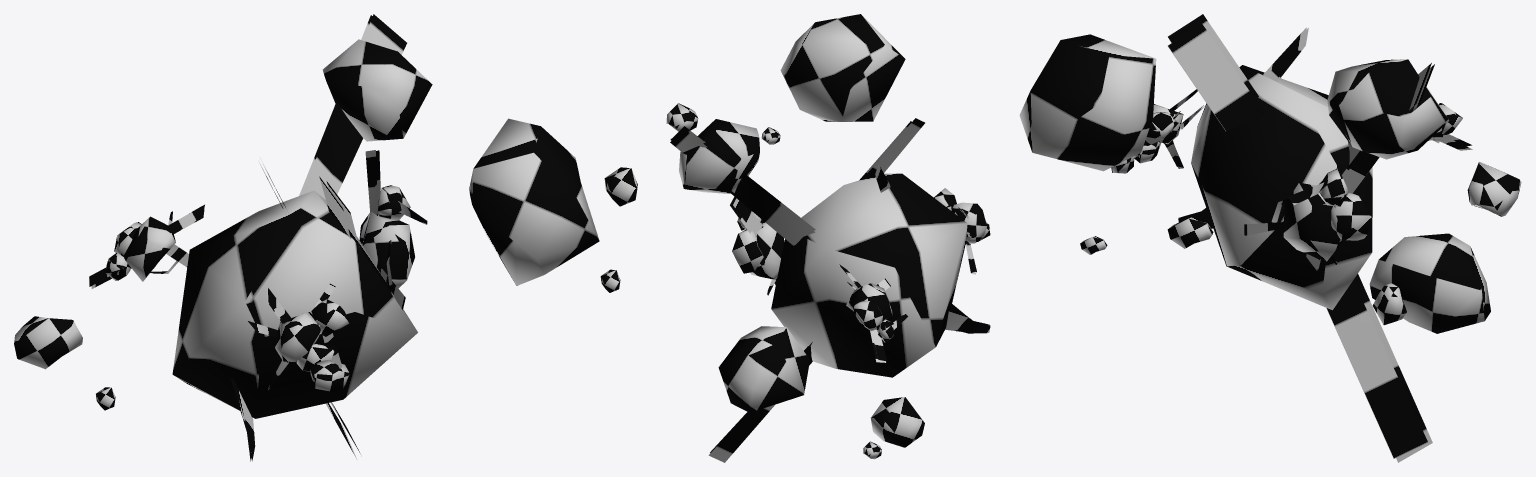
Rendered from zone_asteroid_pirates2.obj.
3 renders of one model, left to right at view 1: azimuth 30°, elevation 25°; view 2: azimuth 150°, elevation 25°; view 3: azimuth 270°, elevation 25°, orthographic. The views are drawn at different scales.
Parts seen in each view (by area): view 1: cluster; view 2: cluster; view 3: cluster.
Boxes of the visible parts, x1=… form: cluster: x1=14, y1=14, x2=637, y2=461; cluster: x1=666, y1=14, x2=990, y2=462; cluster: x1=1019, y1=14, x2=1521, y2=462.
Size of the model in its own units: 244 by 216 by 231.
1 material, 1 textured.
